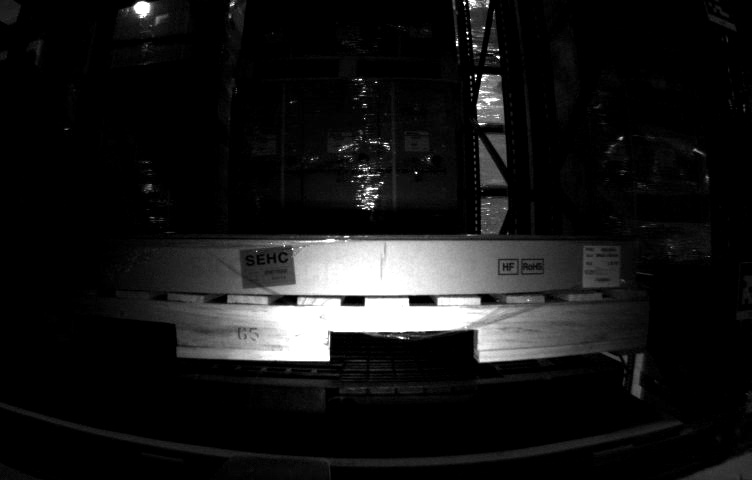True Barcode: (582, 245, 623, 290)
